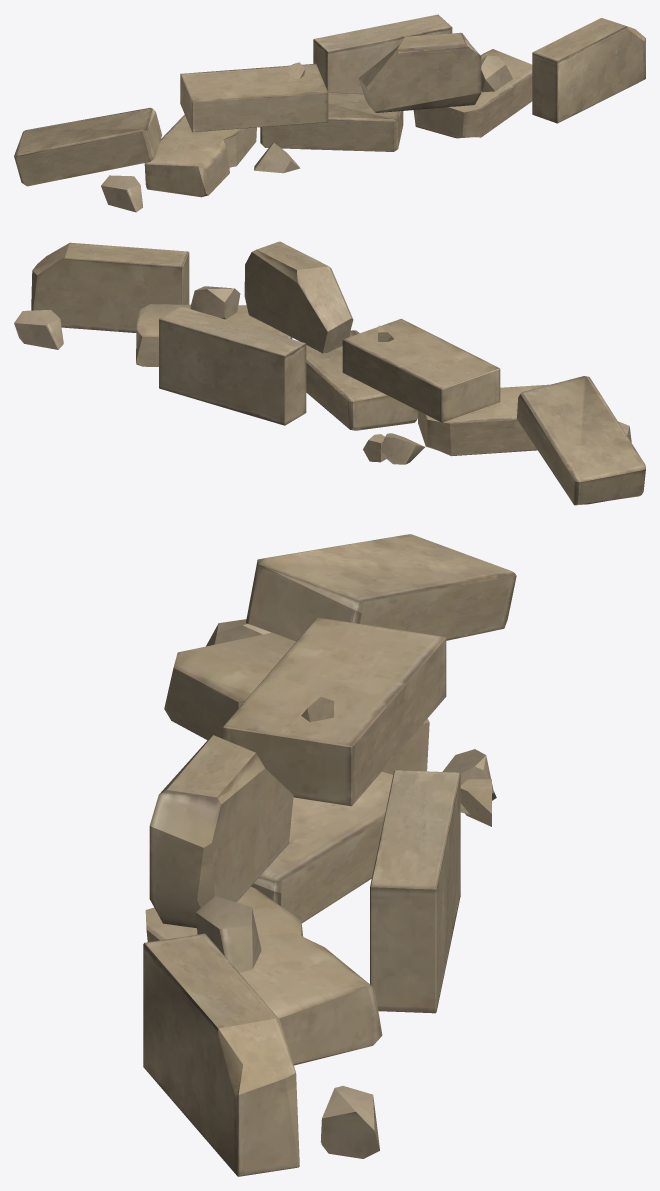
3 renders of one model, top to bottom at view 1: azimuth 30°, elevation 25°; view 2: azimuth 150°, elevation 25°; view 3: azimuth 270°, elevation 25°, orthographic. The views are drawn at different scales.
Visible parts, largest first — view 1: body0_model0_lod0_mesh0; view 2: body0_model0_lod0_mesh0; view 3: body0_model0_lod0_mesh0.
Boxes of the visible parts, box(x1,y1,x2,y2) form: body0_model0_lod0_mesh0: box(14, 14, 645, 212); body0_model0_lod0_mesh0: box(14, 241, 645, 505); body0_model0_lod0_mesh0: box(143, 534, 516, 1176).
Size of the model in its own units: 314 by 49.96 by 86.43.
1 material, 1 textured.
